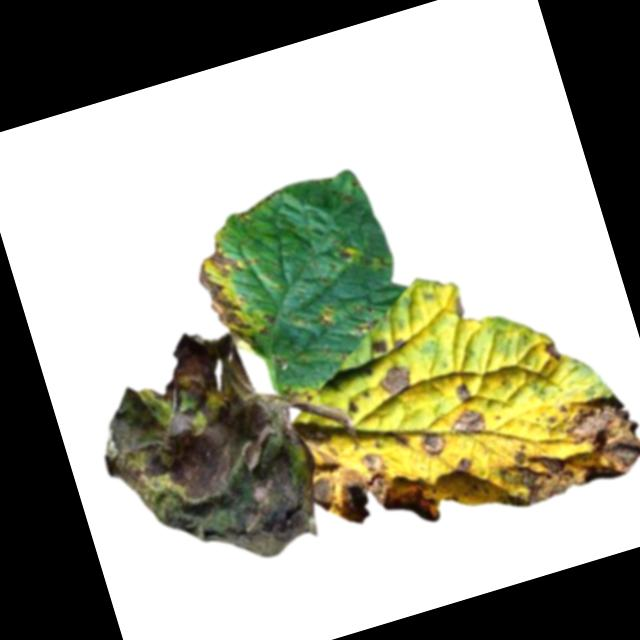Early_blight: (76, 308, 341, 596), (479, 382, 640, 514), (303, 430, 440, 554), (189, 236, 263, 354), (446, 402, 490, 440), (377, 361, 416, 401), (417, 426, 449, 458), (542, 339, 564, 365), (452, 380, 474, 404), (365, 336, 391, 356), (454, 453, 474, 475), (334, 243, 355, 261)
